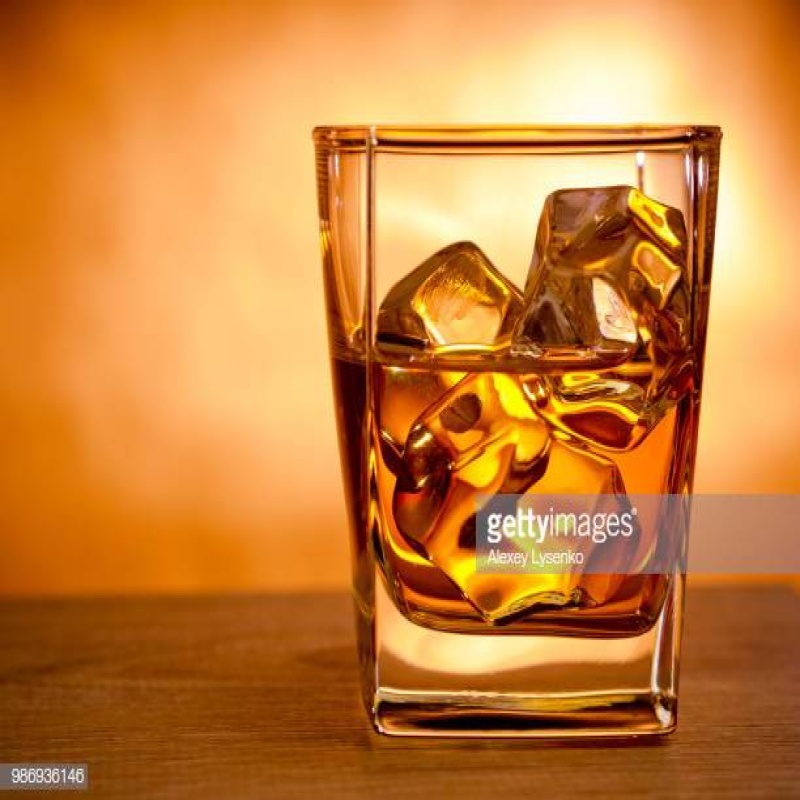whiskey: (334, 119, 721, 738)
